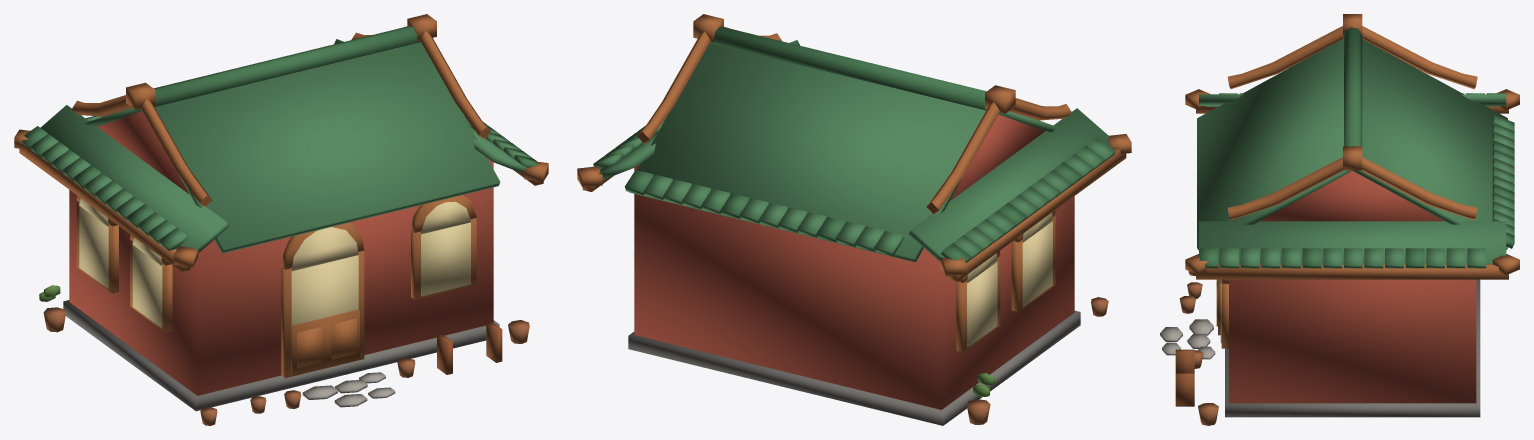
The model's file is ethnic.glb.
The picture shows the model from 3 angles, left to right: view 1: azimuth 30°, elevation 25°; view 2: azimuth 150°, elevation 25°; view 3: azimuth 270°, elevation 25°; orthographic projection. The views are drawn at different scales.
Parts seen in each view (by area): view 1: ethnic; view 2: ethnic; view 3: ethnic.
Boxes of the visible parts, <box> form: ethnic: <box>14,14,548,425</box>; ethnic: <box>577,14,1131,425</box>; ethnic: <box>1160,14,1519,425</box>.
Size of the model in its own units: 3.04 by 2.12 by 2.62.
